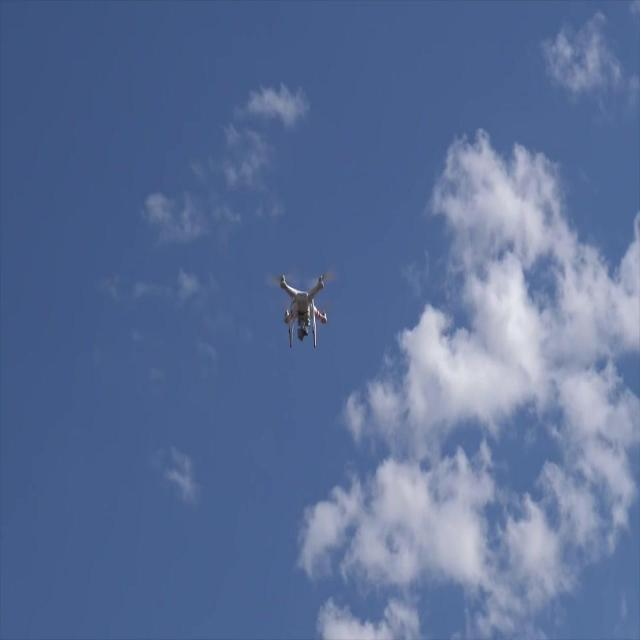UAV: (275, 274, 327, 348)
